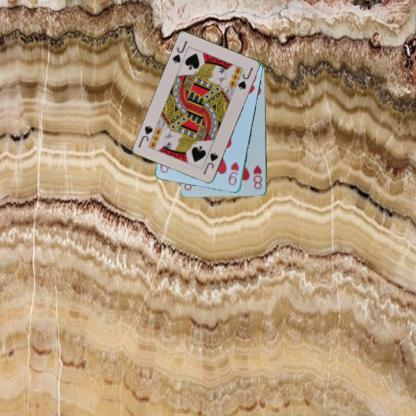8h: (251, 163, 263, 191)
9h: (226, 159, 240, 187)
Js: (200, 150, 219, 176), (170, 39, 189, 65)
